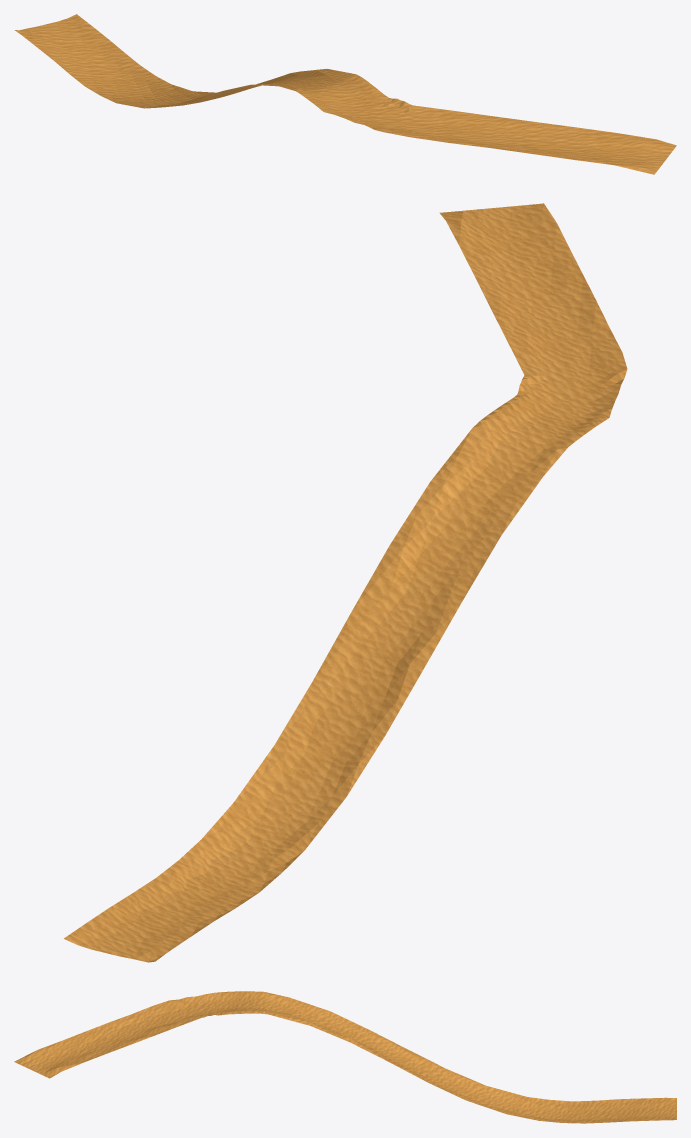
File: sandFloor.fbx
The picture shows the model from 3 angles, top to bottom: view 1: azimuth 30°, elevation 25°; view 2: azimuth 150°, elevation 25°; view 3: azimuth 270°, elevation 25°; orthographic projection. The views are drawn at different scales.
Parts seen in each view (by area): view 1: sandfloor; view 2: sandfloor; view 3: sandfloor.
Part boxes in pixels (x1,y1,x2,y2): sandfloor: [14, 14, 676, 174]; sandfloor: [64, 203, 627, 962]; sandfloor: [14, 991, 676, 1123].
Bounding box in the file's own units: 2235 × 1415 × 7471.
